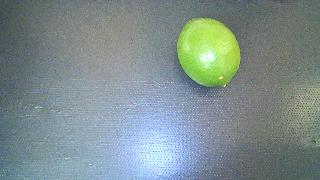EXPORTACION: (177, 18, 241, 87)
